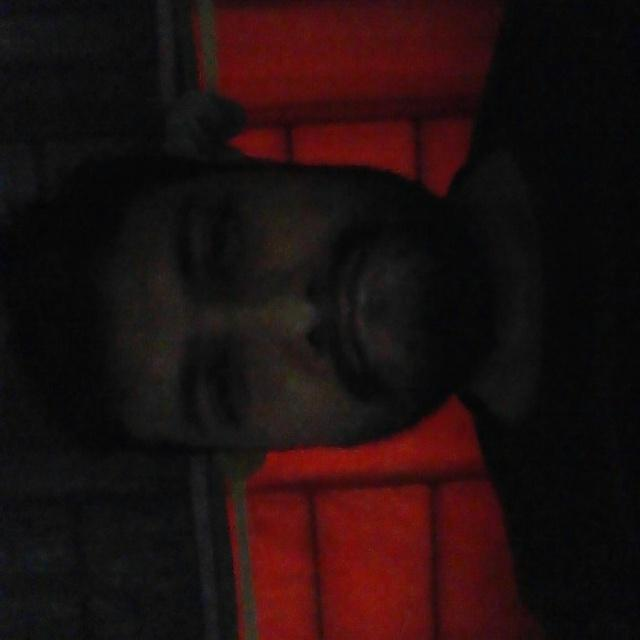Sad: (75, 93, 497, 510)
